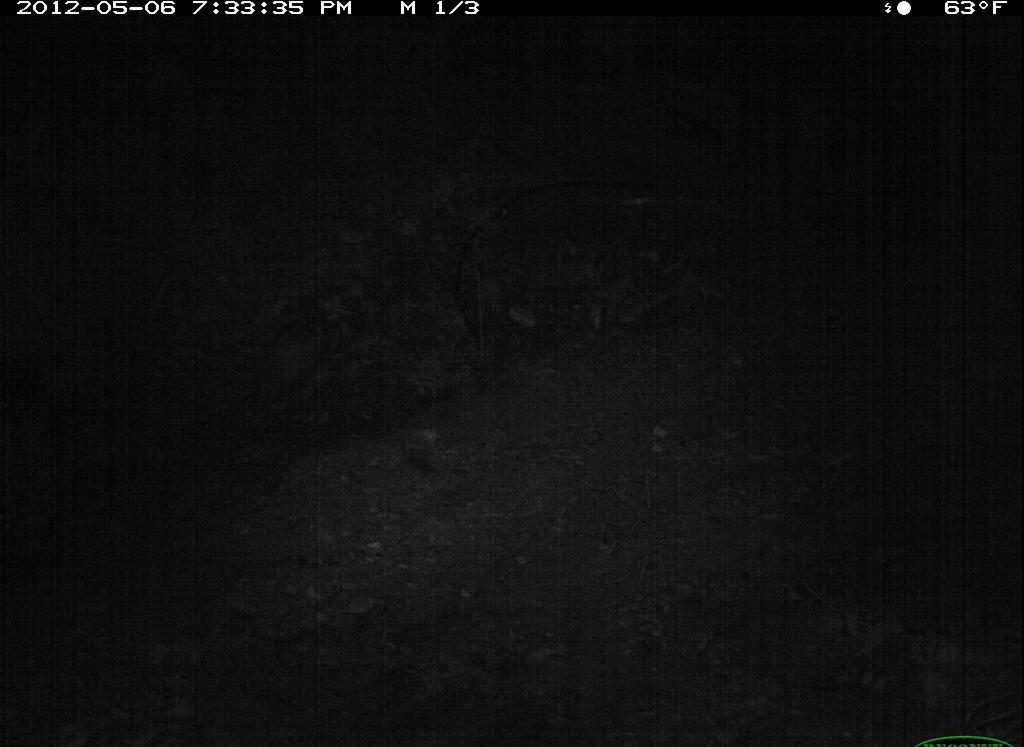opossum: (236, 278, 365, 456)
